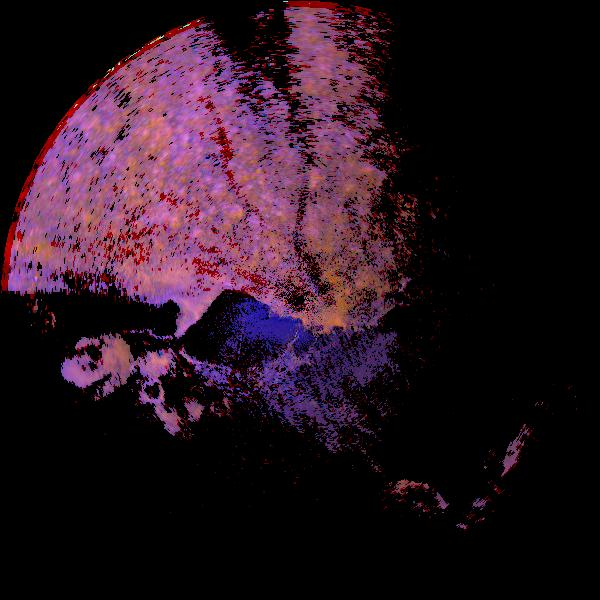roost: (32, 302, 155, 425)
